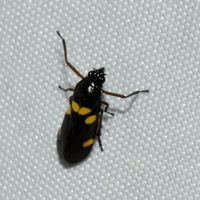insect: (57, 31, 148, 162)
